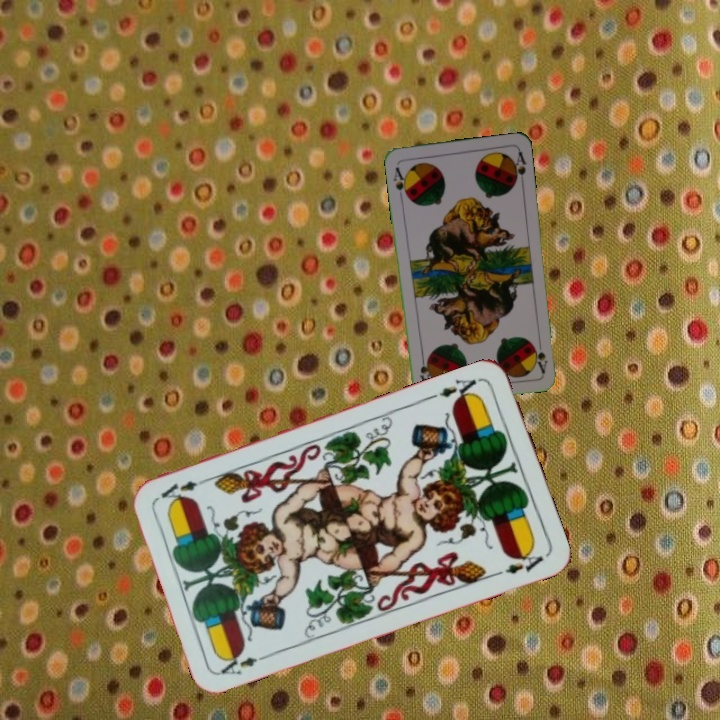EA: (217, 648, 273, 678), (435, 375, 480, 406)
SA: (529, 335, 550, 375), (389, 163, 411, 201)
